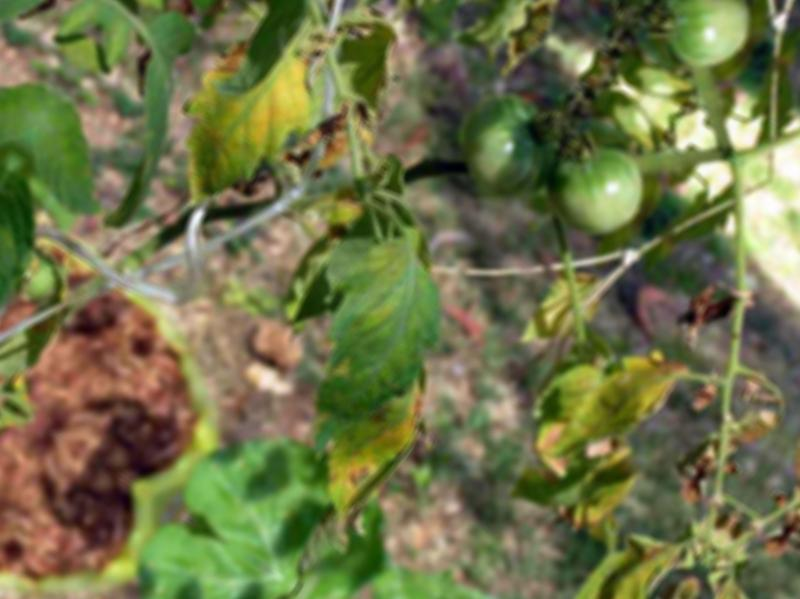Tomato mold leaf: (217, 219, 512, 553), (114, 0, 350, 252), (540, 323, 698, 495)
